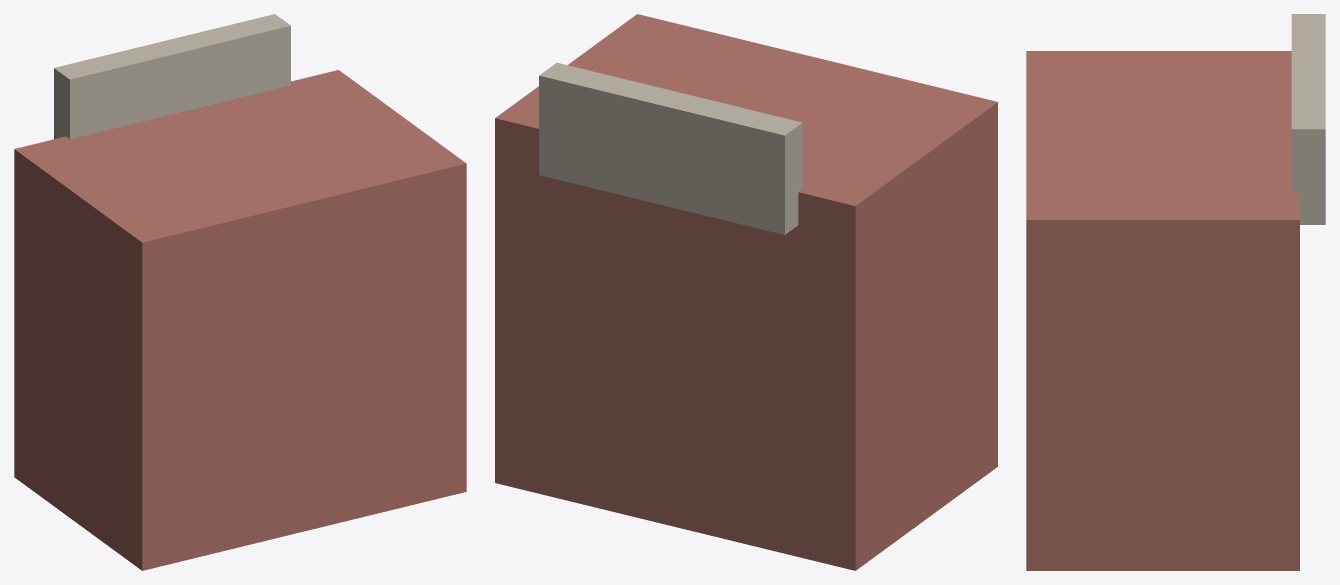
The model's file is iz2_item_respirator_filter.glb.
3 views of the same model, side by side, from view 1: azimuth 30°, elevation 25°; view 2: azimuth 150°, elevation 25°; view 3: azimuth 270°, elevation 25° (orthographic). The views are drawn at different scales.
Visible parts, largest first — view 1: body; view 2: body; view 3: body.
Boxes of the visible parts, x1,y1,x2,y2 form: body: [14, 14, 466, 570]; body: [495, 14, 997, 570]; body: [1026, 14, 1325, 570].
Size of the model in its own units: 0.2264 by 0.2587 by 0.1693.
